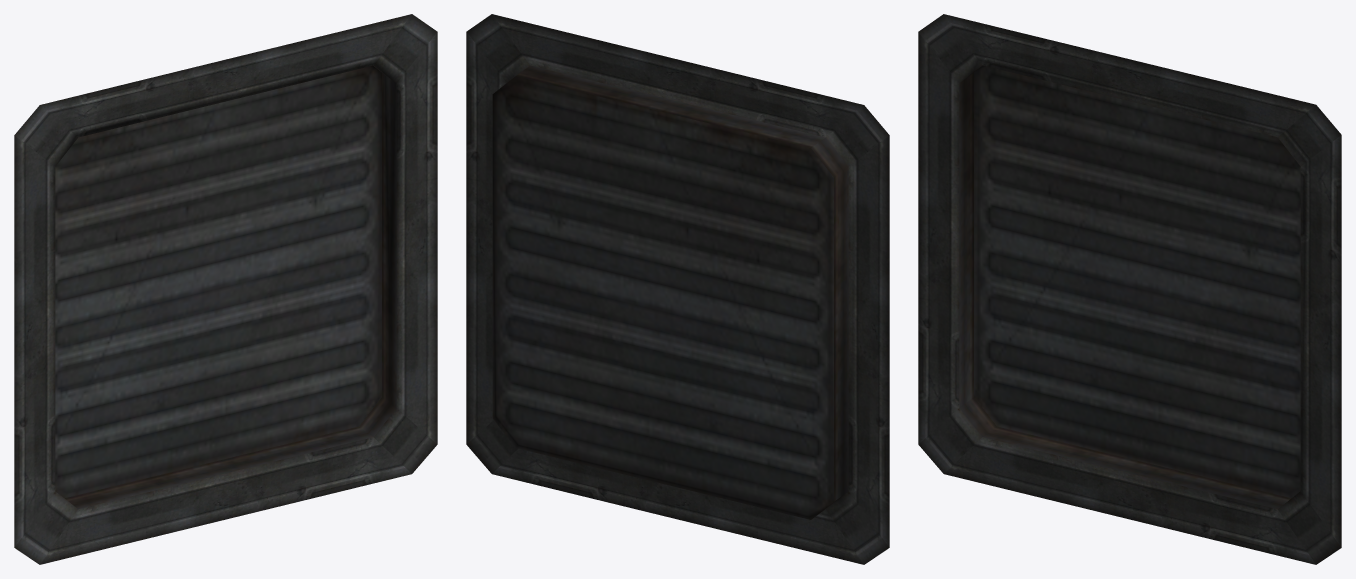
Rendered from trainstation_maintenance_tunnels_end.dae.
3 renders of one model, left to right at view 1: azimuth 30°, elevation 25°; view 2: azimuth 150°, elevation 25°; view 3: azimuth 330°, elevation 25°, orthographic.
Visible parts, largest first — view 1: end; view 2: end; view 3: end.
Boxes of the visible parts, x1,y1,x2,y2 form: end: (14,14,437,564); end: (466,14,889,564); end: (918,14,1341,564).
Size of the model in its own units: 1.36 by 1.41 by 0.0815.
